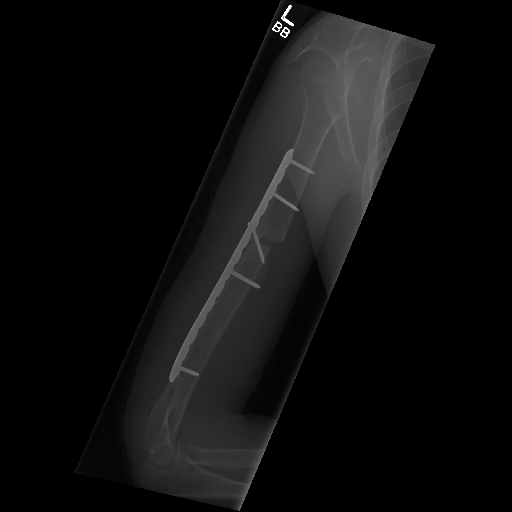implant: (246, 144, 315, 261), (159, 337, 198, 387)
